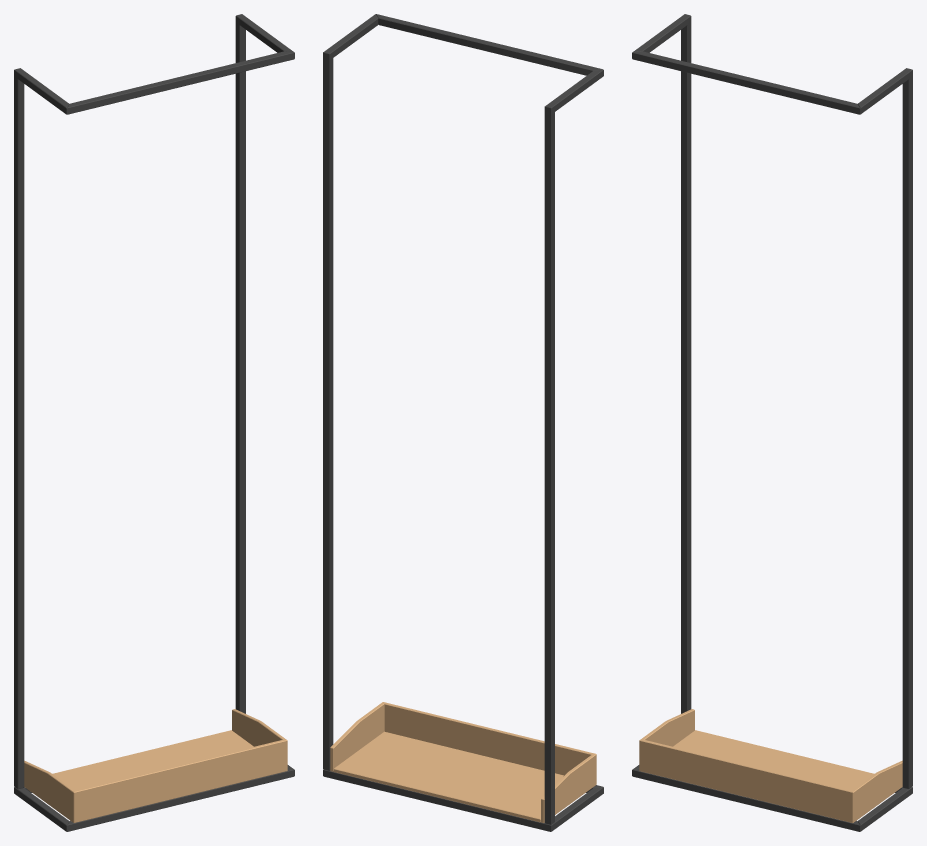
The model's file is SM_rack_4.fbx.
3 renders of one model, left to right at view 1: azimuth 30°, elevation 25°; view 2: azimuth 150°, elevation 25°; view 3: azimuth 330°, elevation 25°, orthographic.
Parts seen in each view (by area): view 1: SM_rack_4, SM_shelf_1; view 2: SM_rack_4, SM_shelf_1; view 3: SM_rack_4, SM_shelf_1.
Boxes of the visible parts, <box> form: SM_rack_4: <box>14,14,294,831</box>; SM_shelf_1: <box>24,709,287,822</box>; SM_rack_4: <box>323,14,603,831</box>; SM_shelf_1: <box>330,702,596,822</box>; SM_rack_4: <box>632,14,912,831</box>; SM_shelf_1: <box>639,709,902,822</box>.
Size of the model in its own units: 100 by 303 by 40.09.
